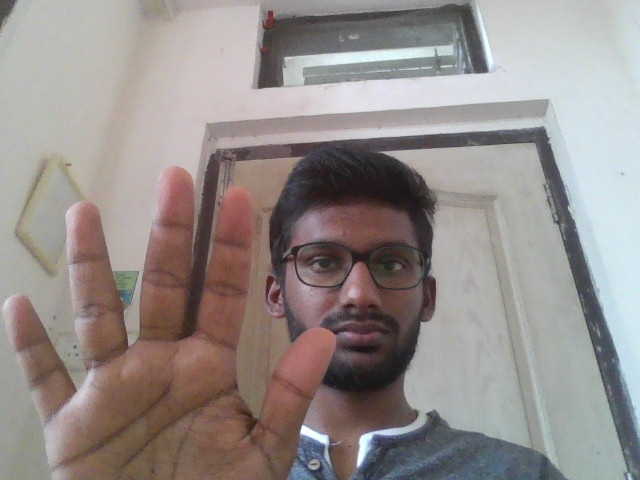Hello: (1, 165, 341, 480)
